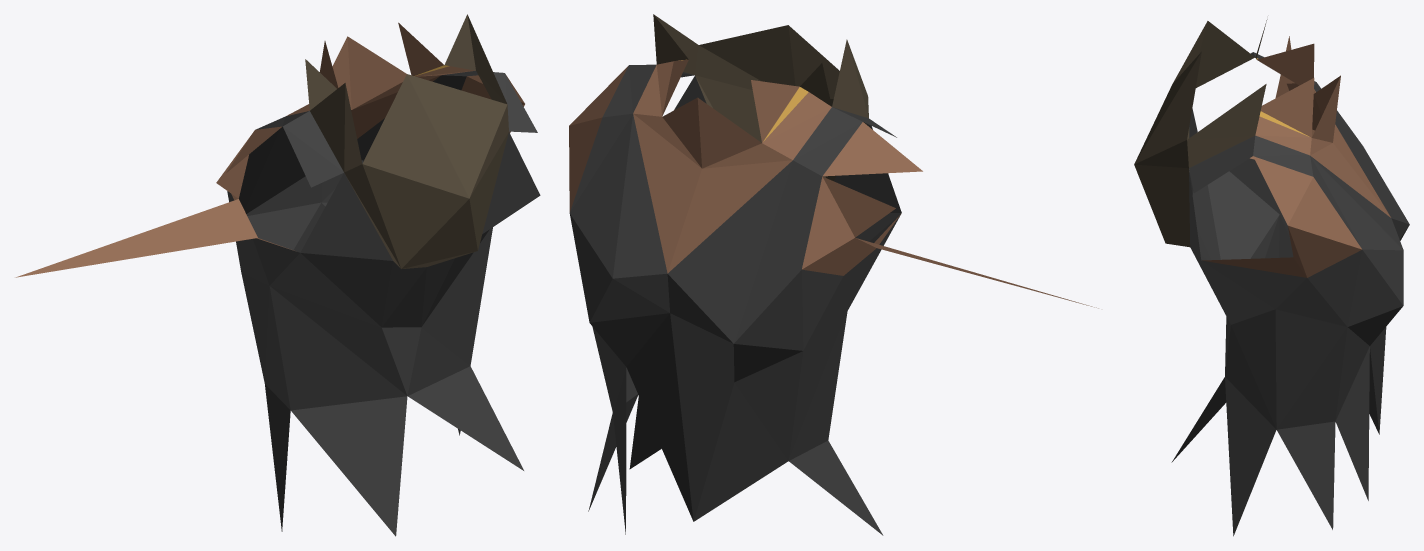
File: Torso.obj
The picture shows the model from 3 angles, left to right: view 1: azimuth 30°, elevation 25°; view 2: azimuth 150°, elevation 25°; view 3: azimuth 270°, elevation 25°; orthographic projection. The views are drawn at different scales.
Size of the model in its own units: 0.7535 by 0.6466 by 0.3688.
Materials: 1 (1 with a texture image).
